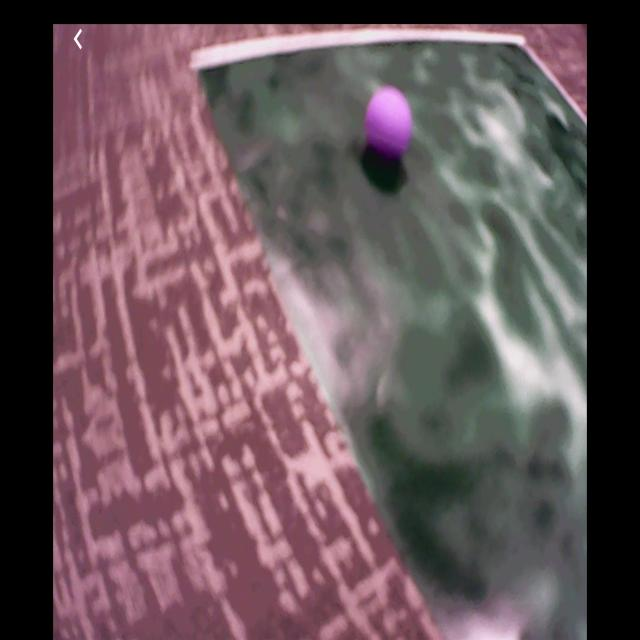ball: (367, 87, 412, 157)
